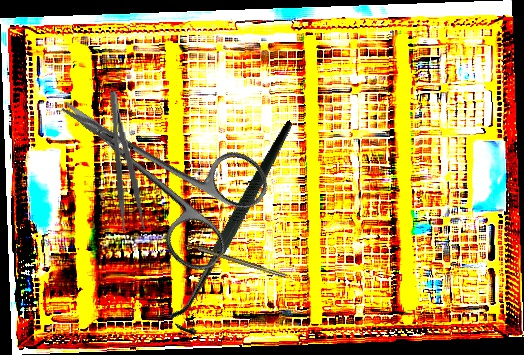Dressing Forceps: (106, 89, 146, 232)
Hook Surgical: (115, 119, 360, 341), (184, 241, 287, 279)
Iris Scissors: (28, 50, 279, 280)
